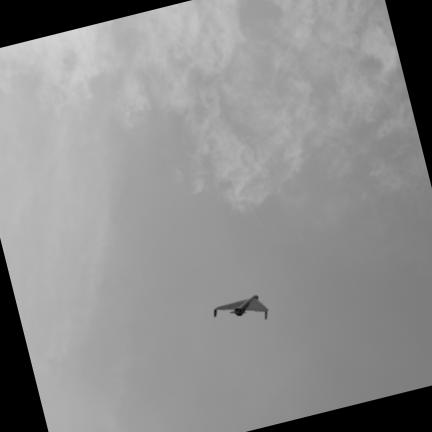Shahed: (213, 295, 267, 317)
